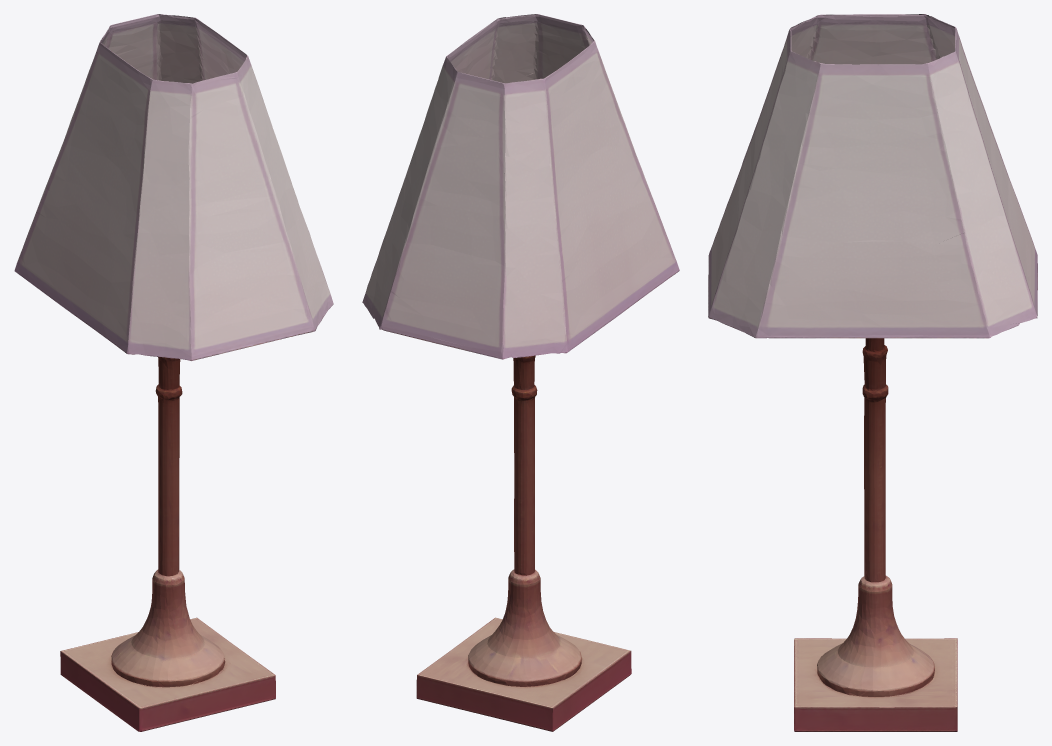
File: original2.glb
3 views of the same model, side by side, from view 1: azimuth 30°, elevation 25°; view 2: azimuth 150°, elevation 25°; view 3: azimuth 270°, elevation 25° (orthographic). The views are drawn at different scales.
Visible parts, largest first — view 1: world; view 2: world; view 3: world.
Boxes of the visible parts, left/top/right/bottom form: world: left=14, top=14, right=333, bottom=731; world: left=362, top=14, right=679, bottom=731; world: left=708, top=14, right=1037, bottom=731.
Bounding box in the file's own units: 0.2954 × 0.8732 × 0.3945.
1 material, 1 textured.
